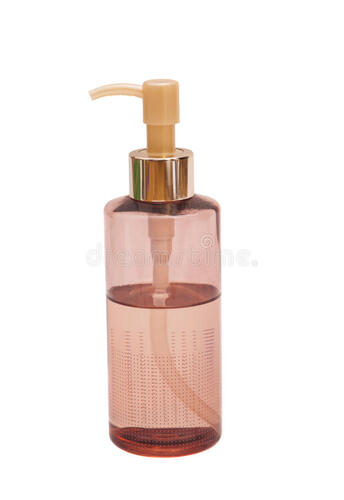sanitizer: (84, 76, 222, 458)
